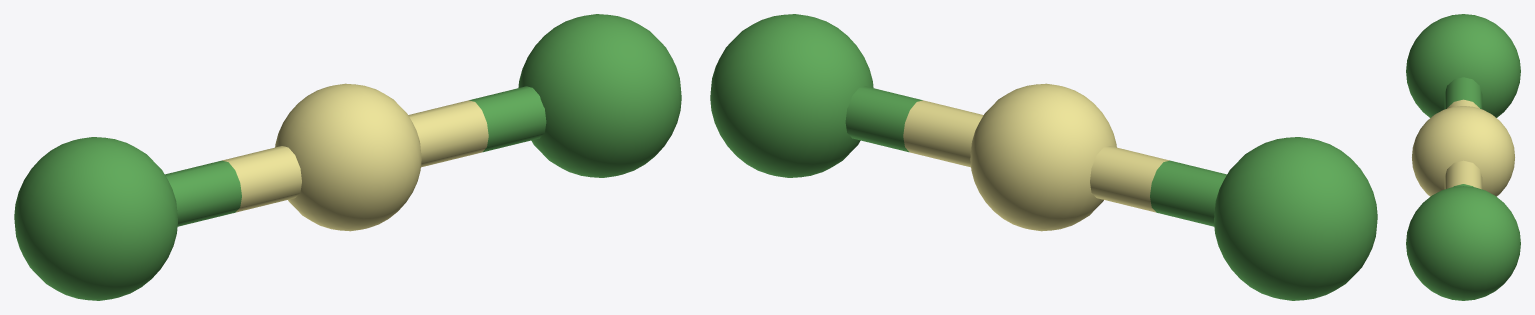
File: BeCl2.FBX
3 renders of one model, left to right at view 1: azimuth 30°, elevation 25°; view 2: azimuth 150°, elevation 25°; view 3: azimuth 270°, elevation 25°, orthographic. The views are drawn at different scales.
Visible parts, largest first — view 1: Sphere004; view 2: Sphere004; view 3: Sphere004.
Boxes of the visible parts, left/top/right/bottom form: Sphere004: left=14, top=14, right=681, bottom=300; Sphere004: left=710, top=14, right=1377, bottom=300; Sphere004: left=1406, top=14, right=1520, bottom=300.
Bounding box in the file's own units: 89.92 × 19.8 × 19.8.
